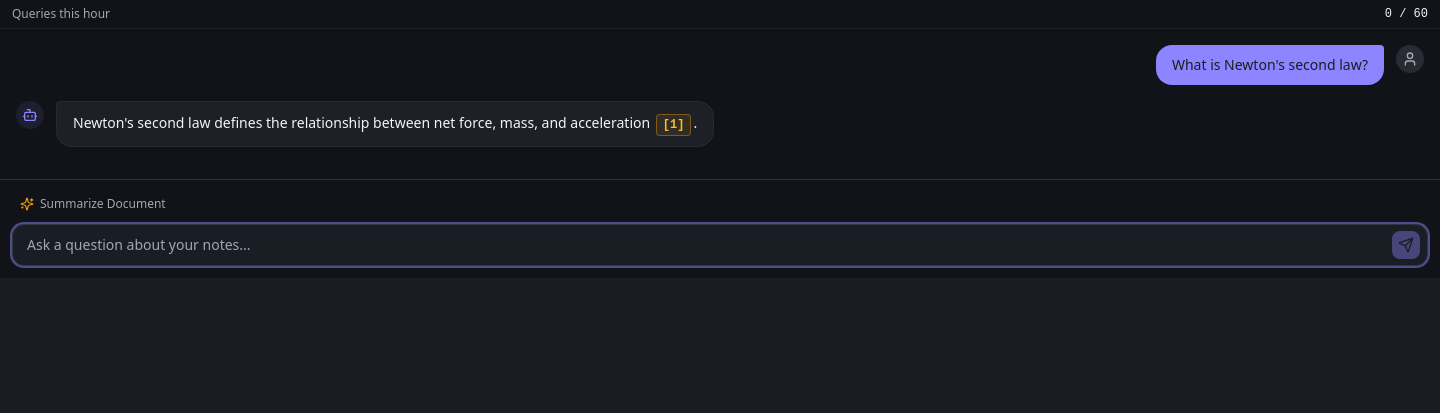
Test case: Empirical Challenger Suite: Phase 3 SSE Streaming & Citations › Dimension 3: Calibrated Refusal & HTTP 429 Rate Limiting › 3.6 Empirical investigation: assistant response presence after stream completion
The image size is (1440, 413).
Expected: the text "What is Newton's second law?" is shown, [1172, 55, 1368, 75]
Type "Explain force and acceleration" into the text box with test id "chat-input" at (720, 245), box [12, 224, 1428, 266]
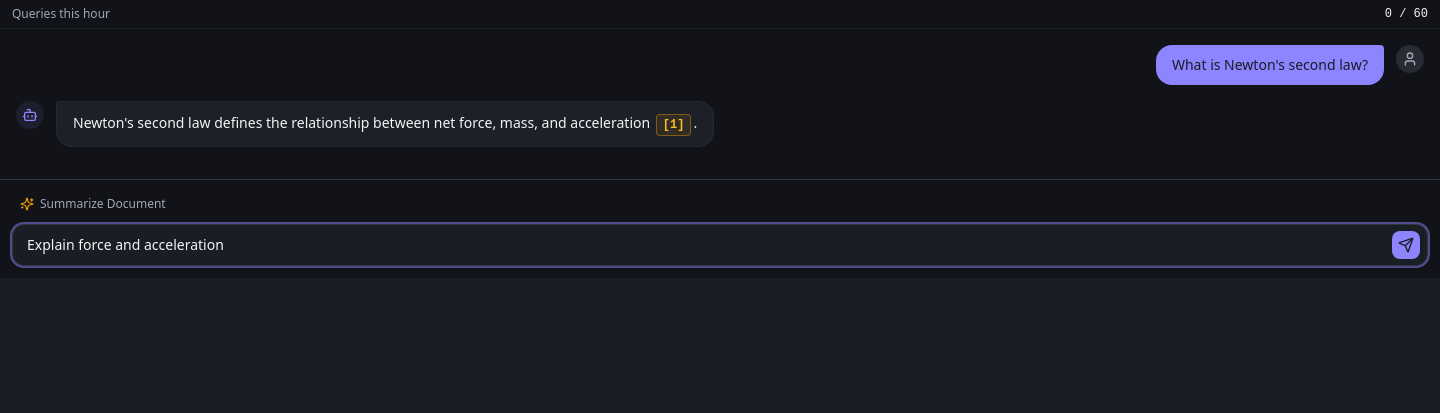
Click the button with test id "send-message-button" at (1406, 245), box [1392, 231, 1420, 259]
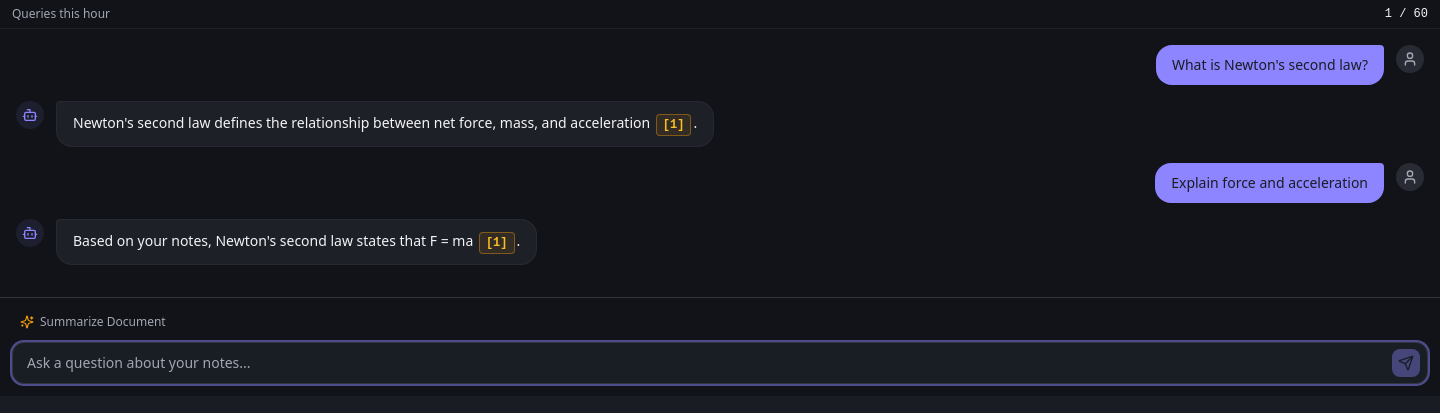
Expected: the text "Explain force and acceleration" is shown, [1171, 173, 1368, 193]
Expected: the text "Based on your notes, Newton's second law states that F = ma" is shown, [73, 231, 477, 250]
